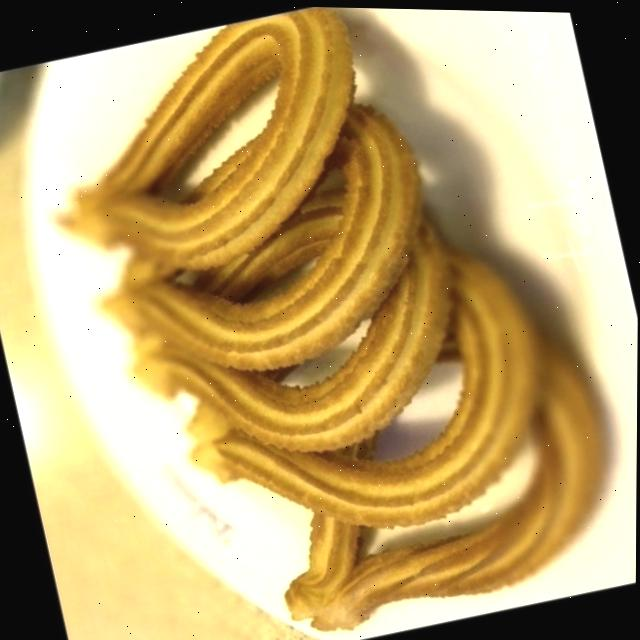炸货点心: (12, 0, 640, 640)
